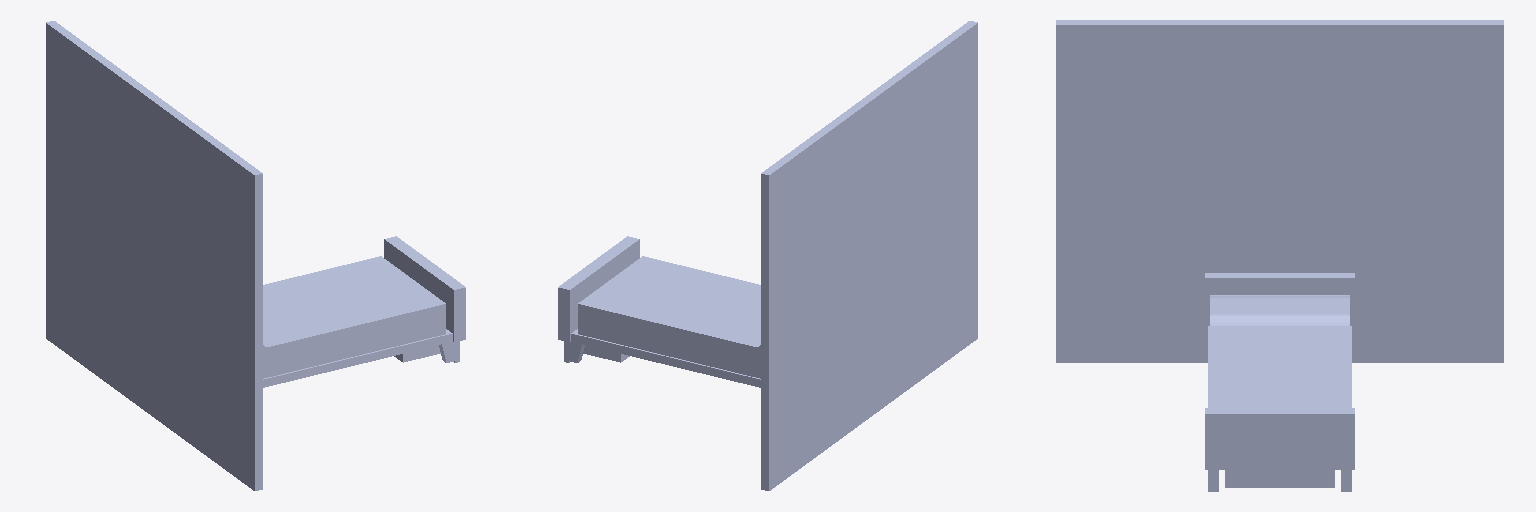
robot.urdf — autobed_simulation_withbody_expanded:
<?xml version="1.0"?>
<robot
  name="autobed_simulation_withbody_expanded">
  <link
    name="base_link">
    <inertial>
      <origin
        xyz="1.07 4.72284190743032E-16 0.0688099292742302"
        rpy="0 0 0" />
      <mass
        value="9.40300815810475" />
      <inertia
        ixx="1.75076724572588"
        ixy="-3.5527136788005E-15"
        ixz="2.87399852308586E-15"
        iyy="10.7655040402141"
        iyz="1.17307726617688E-15"
        izz="12.51627128594" />
    </inertial>
    <visual>
      <origin
        xyz="0 0 0"
        rpy="0 0 0" />
      <geometry>
        <mesh
          filename="package://autobed_simulation_withbody_expanded/meshes/base_link.STL" />
      </geometry>
      <material
        name="">
        <color
          rgba="0.792156862745098 0.819607843137255 0.933333333333333 1" />
      </material>
    </visual>
    <collision>
      <origin
        xyz="0 0 0"
        rpy="0 0 0" />
      <geometry>
        <mesh
          filename="package://autobed_simulation_withbody_expanded/meshes/base_link.STL" />
      </geometry>
    </collision>
  </link>
  <link
    name="bed_frame_link">
    <inertial>
      <origin
        xyz="1.22522476678325 -6.50373074686086E-16 0.0224747837410592"
        rpy="0 0 0" />
      <mass
        value="318.893538737685" />
      <inertia
        ixx="0.744245293463257"
        ixy="4.32817281650944E-15"
        ixz="2.21479556786015"
        iyy="7.3352435174314"
        iyz="-1.45441064391102E-15"
        izz="6.59099822396815" />
    </inertial>
    <visual>
      <origin
        xyz="0 0 0"
        rpy="0 0 0" />
      <geometry>
        <mesh
          filename="package://autobed_simulation_withbody_expanded/meshes/bed_frame_link.STL" />
      </geometry>
      <material
        name="">
        <color
          rgba="0.792156862745098 0.819607843137255 0.933333333333333 1" />
      </material>
    </visual>
    <collision>
      <origin
        xyz="0 0 0"
        rpy="0 0 0" />
      <geometry>
        <mesh
          filename="package://autobed_simulation_withbody_expanded/meshes/bed_frame_link.STL" />
      </geometry>
    </collision>
  </link>
  <joint
    name="tele_legs_joint"
    type="prismatic">
    <origin
      xyz="-0.0400000000000005 0 0.320000000000001"
      rpy="0 0 0" />
    <parent
      link="base_link" />
    <child
      link="bed_frame_link" />
    <axis
      xyz="0 1 0" />
  </joint>
  <link
    name="leg_rest_upper">
    <inertial>
      <origin
        xyz="0.185000000000001 0.12 4.4967181463725E-16"
        rpy="0 0 0" />
      <mass
        value="83.0280000000001" />
      <inertia
        ixx="0"
        ixy="0"
        ixz="0"
        iyy="0"
        iyz="0"
        izz="0" />
    </inertial>
    <visual>
      <origin
        xyz="0 0 0"
        rpy="0 0 0" />
      <geometry>
        <mesh
          filename="package://autobed_simulation_withbody_expanded/meshes/leg_rest_upper.STL" />
      </geometry>
      <material
        name="">
        <color
          rgba="0.792156862745098 0.819607843137255 0.933333333333333 1" />
      </material>
    </visual>
    <collision>
      <origin
        xyz="0 0 0"
        rpy="0 0 0" />
      <geometry>
        <mesh
          filename="package://autobed_simulation_withbody_expanded/meshes/leg_rest_upper.STL" />
      </geometry>
    </collision>
  </link>
  <joint
    name="leg_rest_upper_hinge"
    type="revolute">
    <origin
      xyz="1.075 0 0"
      rpy="1.5707963267949 -1.84377299293392E-16 7.65430446472183E-16" />
    <parent
      link="bed_frame_link" />
    <child
      link="leg_rest_upper" />
    <axis
      xyz="0 0 -1" />
  </joint>
  <link
    name="leg_rest_lower">
    <inertial>
      <origin
        xyz="0.325 0.12 -6.13160788110384E-17"
        rpy="0 0 0" />
      <mass
        value="145.86" />
      <inertia
        ixx="0"
        ixy="0"
        ixz="0"
        iyy="0"
        iyz="0"
        izz="0" />
    </inertial>
    <visual>
      <origin
        xyz="0 0 0"
        rpy="0 0 0" />
      <geometry>
        <mesh
          filename="package://autobed_simulation_withbody_expanded/meshes/leg_rest_lower.STL" />
      </geometry>
      <material
        name="">
        <color
          rgba="0.792156862745098 0.819607843137255 0.933333333333333 1" />
      </material>
    </visual>
    <collision>
      <origin
        xyz="0 0 0"
        rpy="0 0 0" />
      <geometry>
        <mesh
          filename="package://autobed_simulation_withbody_expanded/meshes/leg_rest_lower.STL" />
      </geometry>
    </collision>
  </link>
  <joint
    name="leg_rest_lower_hinge"
    type="revolute">
    <origin
      xyz="0.370000000000001 0 0"
      rpy="8.46545056276682E-16 -2.4743657509036E-16 -1.8315782125782E-16" />
    <parent
      link="leg_rest_upper" />
    <child
      link="leg_rest_lower" />
    <axis
      xyz="0 0 -1" />
  </joint>
  <link
    name="head_rest_link">
    <inertial>
      <origin
        xyz="0.347272691920946 0.135063125133331 -1.64028417501908E-16"
        rpy="0 0 0" />
      <mass
        value="170.497171165562" />
      <inertia
        ixx="0"
        ixy="0"
        ixz="0"
        iyy="0"
        iyz="0"
        izz="0" />
    </inertial>
    <visual>
      <origin
        xyz="0 0 0"
        rpy="0 0 0" />
      <geometry>
        <mesh
          filename="package://autobed_simulation_withbody_expanded/meshes/head_rest_link.STL" />
      </geometry>
      <material
        name="">
        <color
          rgba="0.792156862745098 0.819607843137255 0.933333333333333 1" />
      </material>
    </visual>
    <collision>
      <origin
        xyz="0 0 0"
        rpy="0 0 0" />
      <geometry>
        <mesh
          filename="package://autobed_simulation_withbody_expanded/meshes/head_rest_link.STL" />
      </geometry>
    </collision>
  </link>
  <joint
    name="head_rest_hinge"
    type="revolute">
    <origin
      xyz="0.795 0 0"
      rpy="1.5707963267949 2.84158644671567E-16 -3.14159265358979" />
    <parent
      link="bed_frame_link" />
    <child
      link="head_rest_link" />
    <axis
      xyz="0 0 1" />
  </joint>
  <link
    name="wall_link">
    <inertial>
      <origin
        xyz="-0.749087397953268 0.0565005843533512 0.648196106542827"
        rpy="0 0 0" />
      <mass
        value="524.999999999997" />
      <inertia
        ixx="0"
        ixy="0"
        ixz="0"
        iyy="0"
        iyz="0"
        izz="0" />
    </inertial>
    <visual>
      <origin
        xyz="0 0 0"
        rpy="0 0 0" />
      <geometry>
        <mesh
          filename="package://autobed_simulation_withbody_expanded/meshes/wall_link.STL" />
      </geometry>
      <material
        name="">
        <color
          rgba="0.792156862745098 0.819607843137255 0.933333333333333 1" />
      </material>
    </visual>
    <collision>
      <origin
        xyz="0 0 0"
        rpy="0 0 0" />
      <geometry>
        <mesh
          filename="package://autobed_simulation_withbody_expanded/meshes/wall_link.STL" />
      </geometry>
    </collision>
  </link>
  <joint
    name="origin_wall_joint"
    type="prismatic">
    <origin
      xyz="0.610627419320058 -0.185260000000017 0.574890377092537"
      rpy="-0.00650994084197508 0.0370393769946504 -0.174021765425405" />
    <parent
      link="base_link" />
    <child
      link="wall_link" />
    <axis
      xyz="0.984220866265583 0.172903665695305 0.0375979892620764" />
  </joint>
</robot>

--- Facts derived from the render (not from the file) ---
3 views of the same robot in one strip: view 1: azimuth 30°, elevation 25°; view 2: azimuth 150°, elevation 25°; view 3: azimuth 270°, elevation 25° (orthographic).
Robot: autobed_simulation_withbody_expanded — 6 links, 5 joints (3 revolute, 2 prismatic); root link base_link; default pose: every joint at zero.
Visible links, largest first — view 1: wall_link, bed_frame_link, leg_rest_lower, leg_rest_upper, head_rest_link; view 2: wall_link, bed_frame_link, leg_rest_lower, leg_rest_upper, head_rest_link; view 3: wall_link, bed_frame_link, head_rest_link, leg_rest_lower, leg_rest_upper.
Boxes of the visible links, x1=… form: wall_link: x1=46, y1=21, x2=262, y2=490; bed_frame_link: x1=263, y1=236, x2=465, y2=387; leg_rest_lower: x1=303, y1=256, x2=445, y2=352; leg_rest_upper: x1=263, y1=275, x2=367, y2=363; head_rest_link: x1=263, y1=323, x2=288, y2=378; wall_link: x1=761, y1=21, x2=977, y2=490; bed_frame_link: x1=558, y1=236, x2=760, y2=387; leg_rest_lower: x1=578, y1=256, x2=720, y2=352; leg_rest_upper: x1=656, y1=275, x2=760, y2=363; head_rest_link: x1=735, y1=323, x2=760, y2=378; wall_link: x1=1056, y1=20, x2=1503, y2=362; bed_frame_link: x1=1205, y1=273, x2=1354, y2=491; head_rest_link: x1=1210, y1=295, x2=1349, y2=337; leg_rest_lower: x1=1210, y1=379, x2=1349, y2=407; leg_rest_upper: x1=1210, y1=356, x2=1349, y2=378.
Size in the robot's own frame: 2.33 by 3 by 2.5 metres.
Meshes: 6 distinct files referenced, 5 mesh visuals loaded (5 binary STL); not drawn: 1 (reference not matched to a file when rendering).